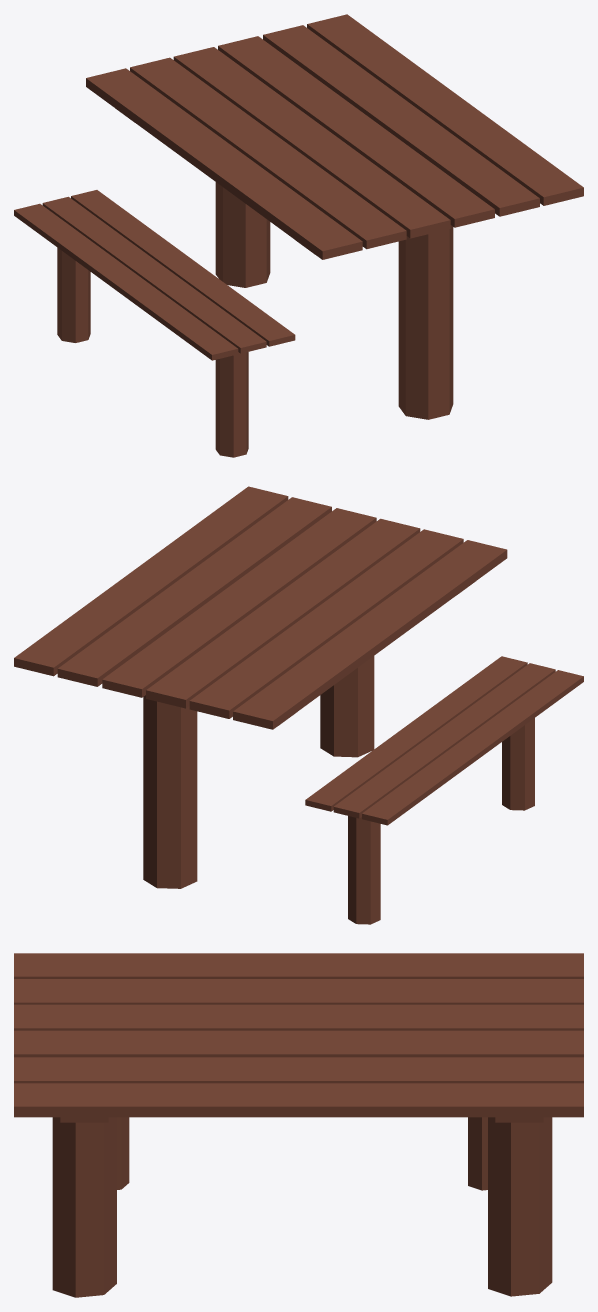
File: PicknickTable.fbx
3 views of the same model, one above another, from view 1: azimuth 30°, elevation 25°; view 2: azimuth 150°, elevation 25°; view 3: azimuth 270°, elevation 25° (orthographic). The views are drawn at different scales.
Visible parts, largest first — view 1: Picknic table, Picnic bench; view 2: Picknic table, Picnic bench; view 3: Picknic table, Picnic bench.
Part boxes in pixels (left/top/right/bottom): Picknic table: left=86, top=14, right=583, bottom=419; Picnic bench: left=14, top=190, right=295, bottom=457; Picknic table: left=14, top=486, right=507, bottom=888; Picnic bench: left=305, top=656, right=583, bottom=924; Picknic table: left=14, top=953, right=583, bottom=1297; Picnic bench: left=117, top=1117, right=487, bottom=1190.
Size of the model in its own units: 859 by 498 by 991.
